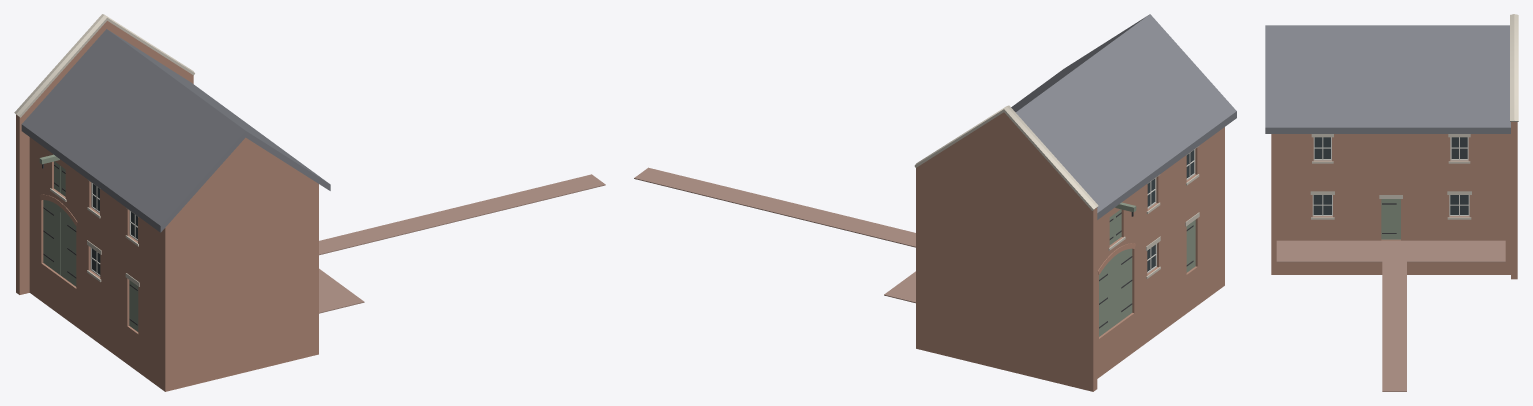
Rendered from house_1712_prairie_coach_house__as_standing_1904.glb.
3 renders of one model, left to right at view 1: azimuth 30°, elevation 25°; view 2: azimuth 150°, elevation 25°; view 3: azimuth 270°, elevation 25°, orthographic. The views are drawn at different scales.
Visible parts, largest first — view 1: house_1712_prairie_coach_house__as_standing_1904; view 2: house_1712_prairie_coach_house__as_standing_1904; view 3: house_1712_prairie_coach_house__as_standing_1904.
Part boxes in pixels (x1,y1,x2,y2): house_1712_prairie_coach_house__as_standing_1904: [14, 14, 605, 391]; house_1712_prairie_coach_house__as_standing_1904: [634, 14, 1236, 391]; house_1712_prairie_coach_house__as_standing_1904: [1265, 14, 1518, 391].
Size of the model in its own units: 25.89 by 12.24 by 12.34.
